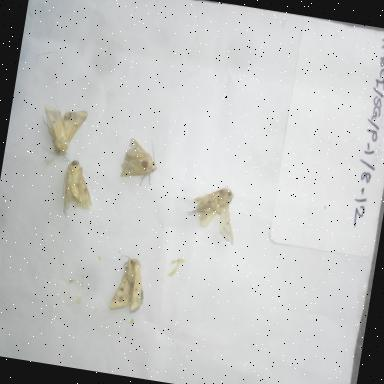abw: (174, 174, 246, 250), (32, 96, 93, 166), (102, 246, 156, 320), (50, 153, 101, 226), (112, 130, 166, 194)
